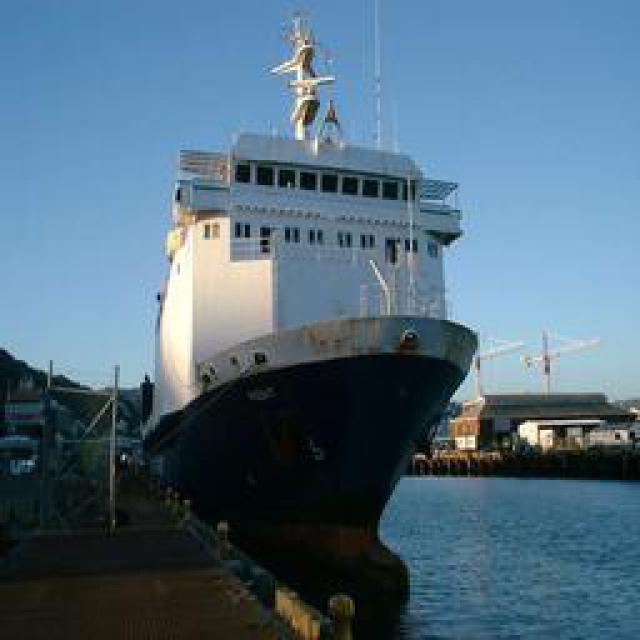Ship: (153, 12, 521, 572)
